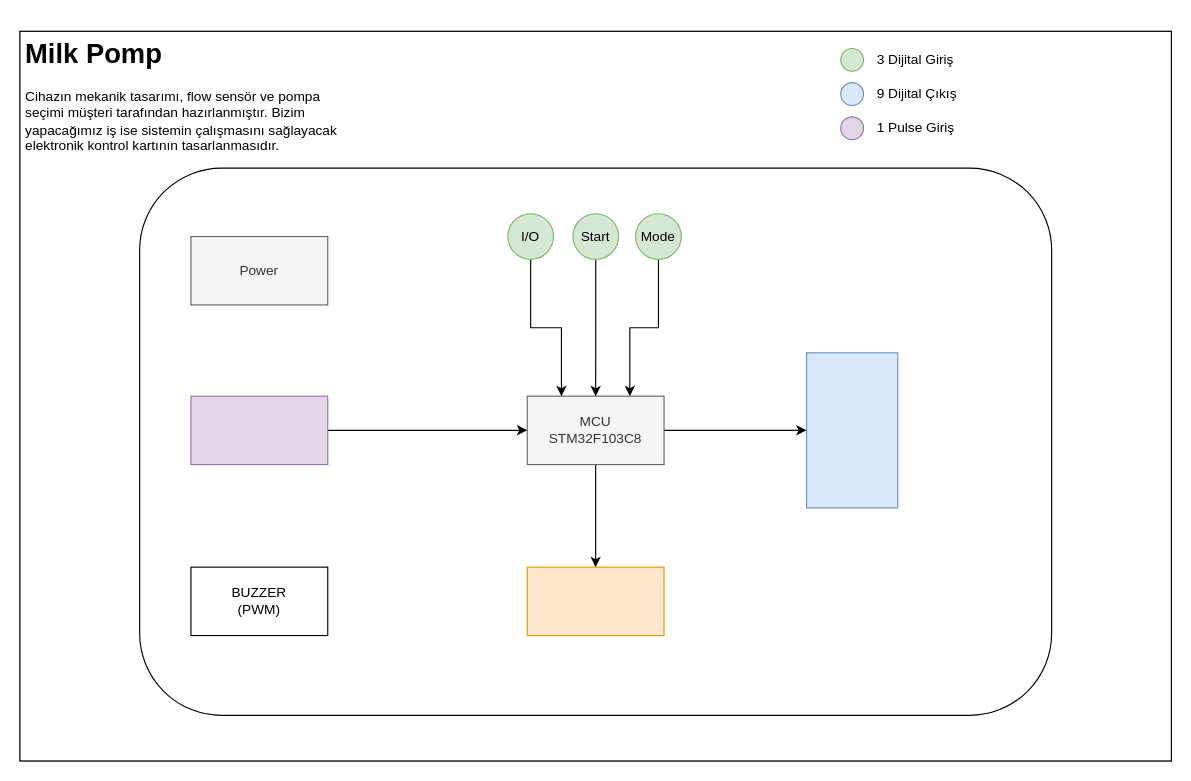
The diagram is 1191 pixels wide and 781 high, and some of its shapes have lost their labels. The shapes that lost their labels are listed below. From the top down, each one's centre as x and y in pixels, then its label:
At (x=259, y=430): "Flow Sensor".
At (x=851, y=430): "7-Segment Display".
At (x=595, y=601): "Relay".
